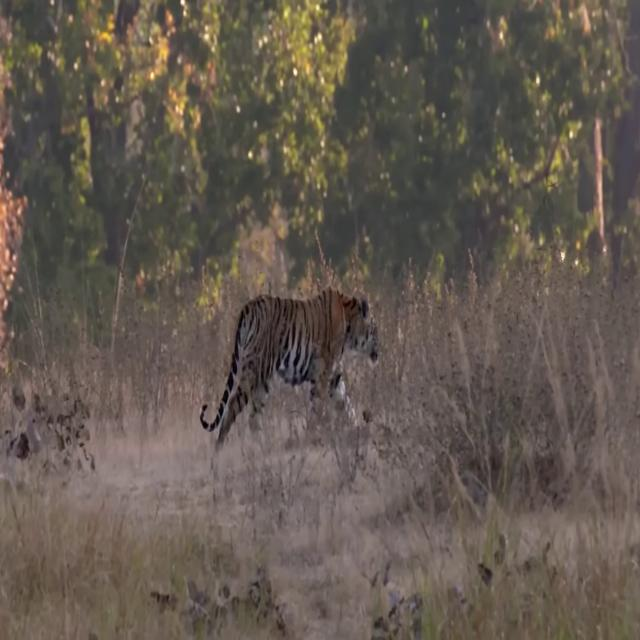tiger: (200, 285, 378, 449)
